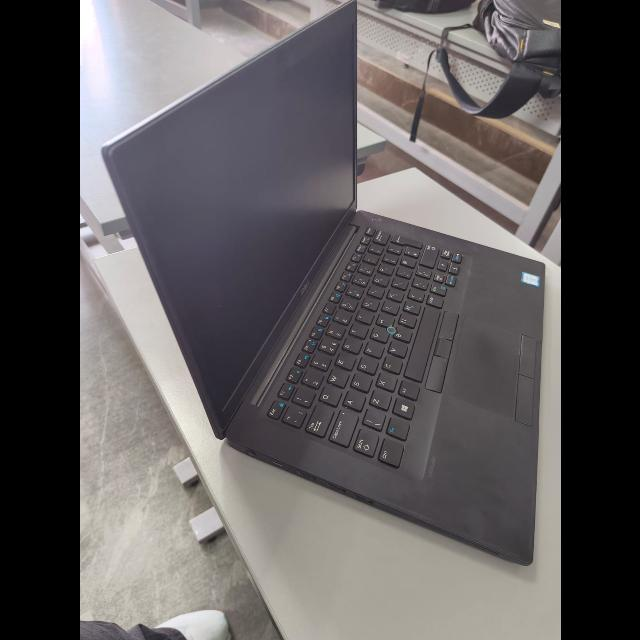laptop: (105, 1, 555, 573)
